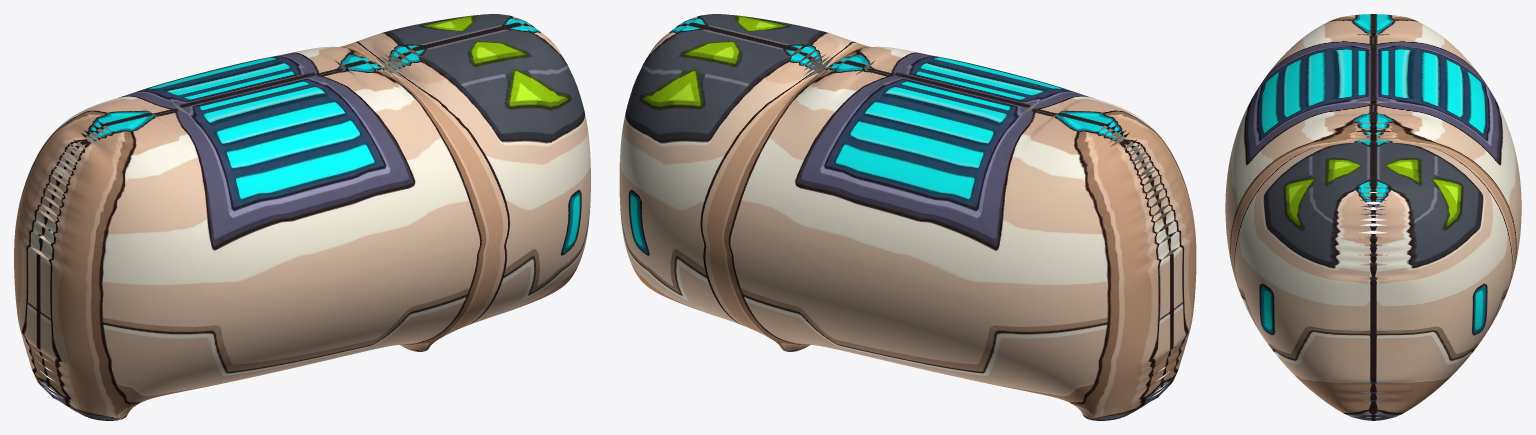
The model's file is rear_bulkhead.glb.
3 views of the same model, side by side, from view 1: azimuth 30°, elevation 25°; view 2: azimuth 150°, elevation 25°; view 3: azimuth 270°, elevation 25° (orthographic). The views are drawn at different scales.
Parts seen in each view (by area): view 1: rear_bulkhead; view 2: rear_bulkhead; view 3: rear_bulkhead.
Boxes of the visible parts, x1,y1,x2,y2 form: rear_bulkhead: (14,14,590,420); rear_bulkhead: (619,14,1196,420); rear_bulkhead: (1225,14,1521,420).
Bounding box in the file's own units: 0.989 × 0.4716 × 0.5644.
Materials: 1 (1 with a texture image).
